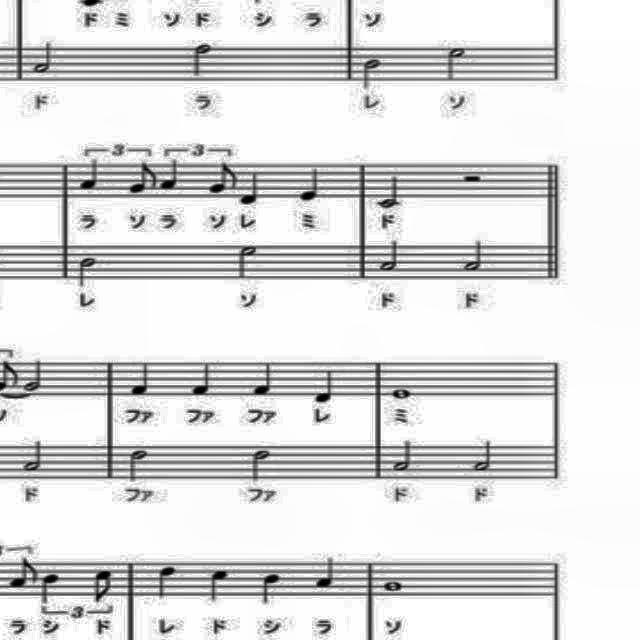Eighth-note: (206, 158, 238, 196), (7, 553, 38, 591), (126, 160, 158, 196), (91, 564, 117, 606)
Full-note: (377, 576, 407, 596), (391, 383, 414, 401)
Half-note: (371, 237, 409, 279), (375, 170, 405, 216), (458, 238, 490, 278), (389, 434, 421, 474), (19, 433, 49, 475), (236, 240, 264, 284), (248, 447, 280, 485), (125, 446, 156, 484), (18, 354, 46, 394), (190, 37, 216, 79), (444, 44, 471, 84), (471, 438, 497, 477), (358, 58, 386, 94), (32, 36, 54, 78), (75, 252, 99, 288)
Half-rest: (457, 166, 487, 190)
Quarter-note: (125, 356, 155, 400), (154, 558, 182, 602), (254, 569, 286, 607), (252, 354, 276, 402), (206, 566, 234, 606), (158, 155, 186, 193), (312, 364, 338, 404), (77, 155, 103, 193), (298, 164, 322, 204), (188, 358, 212, 398), (238, 168, 260, 208), (38, 570, 62, 606), (315, 556, 337, 594)
